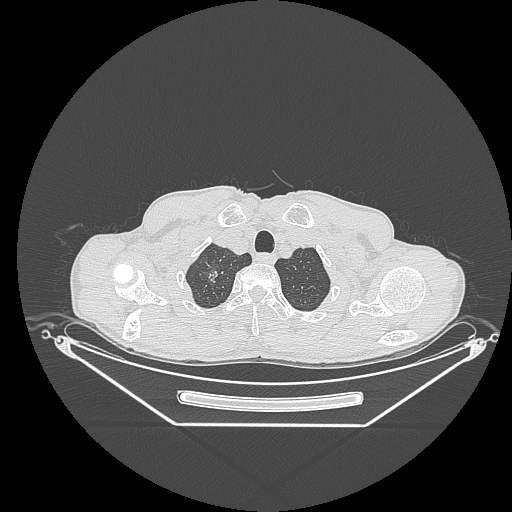nodule: (208, 270, 217, 282)
